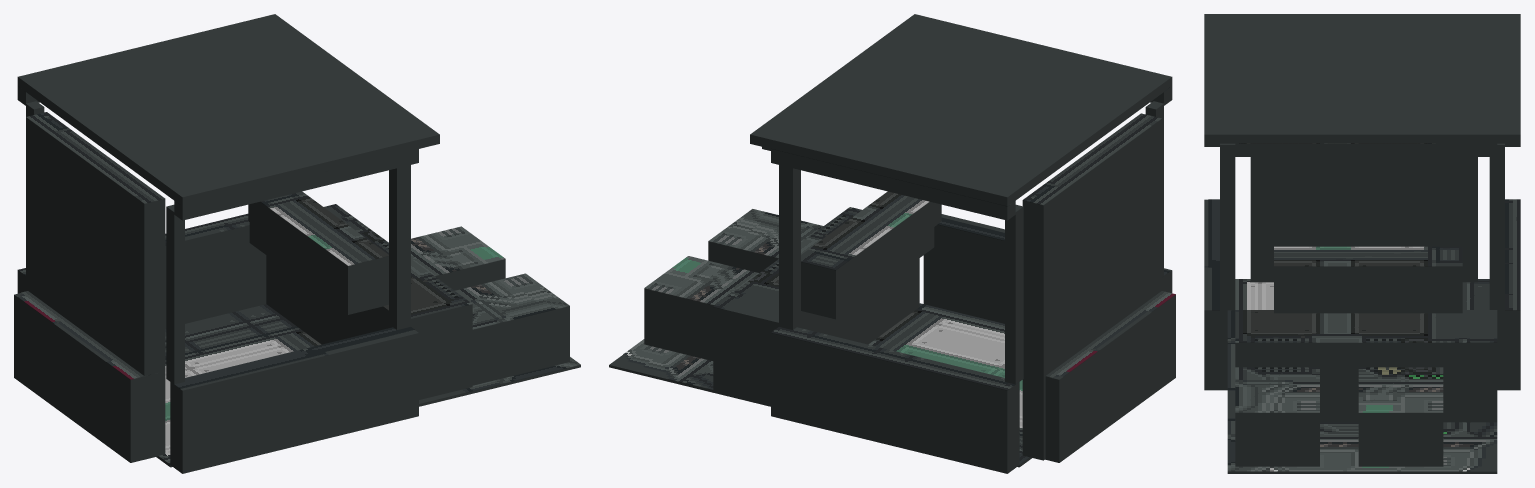
The model's file is CMU3DInteriorVehicleHumveeChassisMedical.glb.
The picture shows the model from 3 angles, left to right: view 1: azimuth 30°, elevation 25°; view 2: azimuth 150°, elevation 25°; view 3: azimuth 270°, elevation 25°; orthographic projection. The views are drawn at different scales.
Parts seen in each view (by area): view 1: armored cabin sill (×4), cabin roof, rear bulkhead, cabin deck source finish, armored cabin sill source finish (×4), dashboard, window pillar (×2), medical bay pad (×2), medical bay pad source finish (×2), dashboard source finish, overhead window rail, rear bulkhead source finish; view 2: armored cabin sill (×4), cabin roof, rear bulkhead, cabin deck source finish, armored cabin sill source finish (×4), window pillar (×3), dashboard, medical bay pad source finish (×2), medical bay pad (×2), dashboard source finish, overhead window rail, rear bulkhead source finish (+1 smaller); view 3: cabin roof, rear bulkhead, armored cabin sill (×3), armored cabin sill source finish (×3), medical bay pad (×2), dashboard, cabin deck source finish, medical bay pad source finish (×2), window pillar (×2), dashboard source finish, overhead window rail, cabin deck.
Boxes of the visible parts, left/top/right/bottom form: armored cabin sill (×4): left=14, top=225, right=472, bottom=473; cabin roof: left=17, top=14, right=439, bottom=206; rear bulkhead: left=26, top=117, right=165, bottom=458; cabin deck source finish: left=158, top=304, right=580, bottom=464; armored cabin sill source finish (×4): left=18, top=204, right=472, bottom=388; dashboard: left=249, top=202, right=388, bottom=314; window pillar (×2): left=166, top=165, right=410, bottom=384; medical bay pad (×2): left=435, top=259, right=569, bottom=385; medical bay pad source finish (×2): left=411, top=226, right=569, bottom=329; dashboard source finish: left=260, top=191, right=388, bottom=265; overhead window rail: left=174, top=149, right=418, bottom=220; rear bulkhead source finish: left=26, top=112, right=165, bottom=203; armored cabin sill (×4): left=713, top=214, right=1175, bottom=473; cabin roof: left=750, top=14, right=1172, bottom=206; rear bulkhead: left=1022, top=119, right=1161, bottom=460; cabin deck source finish: left=623, top=303, right=1029, bottom=464; armored cabin sill source finish (×4): left=713, top=207, right=1175, bottom=390; window pillar (×3): left=779, top=101, right=1163, bottom=384; dashboard: left=801, top=202, right=934, bottom=319; medical bay pad source finish (×2): left=644, top=209, right=823, bottom=305; medical bay pad (×2): left=644, top=241, right=778, bottom=360; dashboard source finish: left=801, top=191, right=929, bottom=270; overhead window rail: left=771, top=149, right=1015, bottom=220; rear bulkhead source finish: left=1023, top=113, right=1161, bottom=205; cabin roof: left=1204, top=14, right=1520, bottom=143; rear bulkhead: left=1250, top=157, right=1477, bottom=282; armored cabin sill (×3): left=1204, top=199, right=1520, bottom=422; armored cabin sill source finish (×3): left=1204, top=199, right=1520, bottom=342; medical bay pad (×2): left=1235, top=413, right=1443, bottom=466; dashboard: left=1274, top=266, right=1462, bottom=313; cabin deck source finish: left=1227, top=279, right=1497, bottom=471; medical bay pad source finish (×2): left=1235, top=367, right=1443, bottom=412; window pillar (×2): left=1220, top=143, right=1504, bottom=310; dashboard source finish: left=1274, top=246, right=1462, bottom=266; overhead window rail: left=1235, top=143, right=1497, bottom=156; cabin deck: left=1227, top=443, right=1497, bottom=473.
Size of the model in its own units: 3.94 by 2.4 by 2.56.
13 materials, 12 textured.
